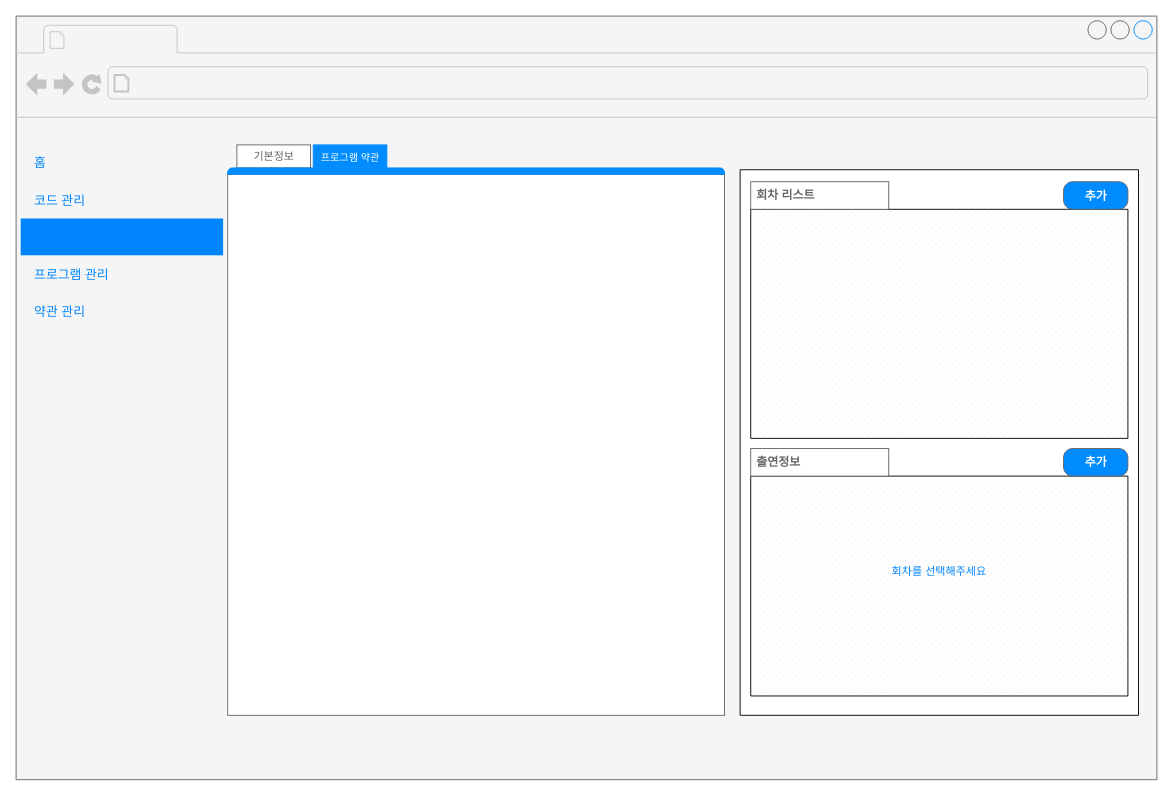
Some shapes in this 1172 by 795 pixel diagram are drawn without their labels. Each missing label, with the centre of its shape:
main/cast/1: pixel 250 82
Page 1: pixel 121 38
출연진 관리: pixel 121 236
